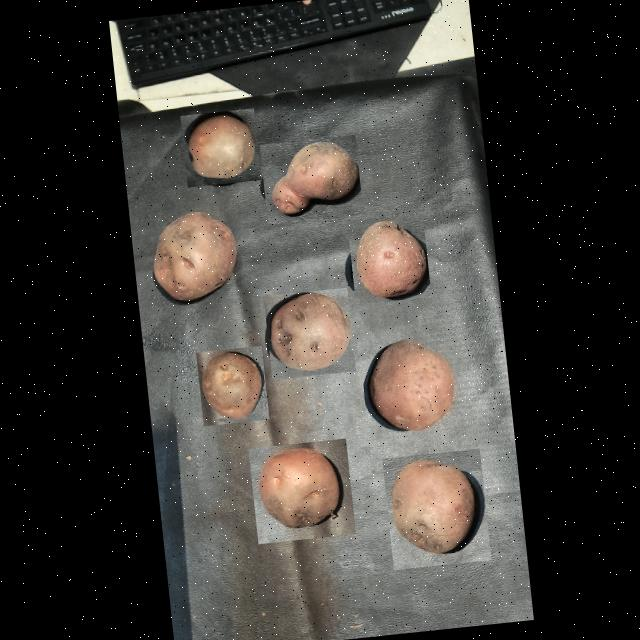Diseased-fungal potato: (381, 448, 490, 570), (358, 326, 466, 438), (248, 438, 354, 544), (142, 206, 244, 310), (258, 134, 362, 224), (262, 288, 354, 380), (346, 213, 430, 304), (179, 108, 260, 187), (195, 346, 268, 426)
